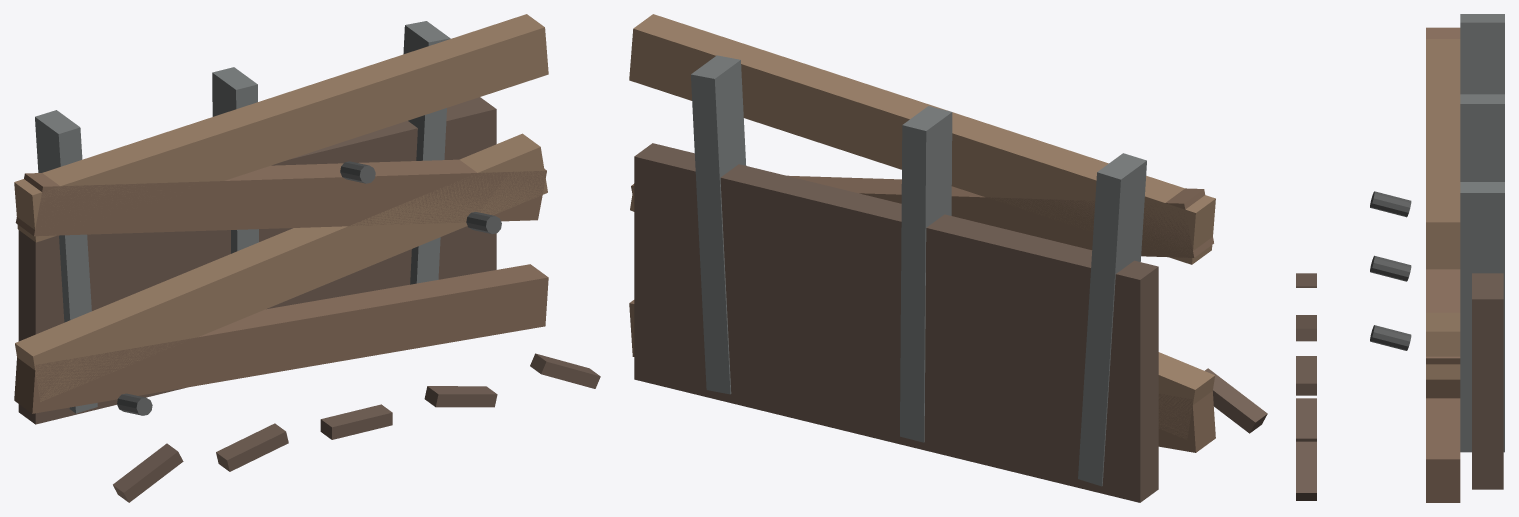
Rendered from Makeshift_Barricade.glb.
3 views of the same model, side by side, from view 1: azimuth 30°, elevation 25°; view 2: azimuth 150°, elevation 25°; view 3: azimuth 270°, elevation 25° (orthographic). The views are drawn at different scales.
Visible parts, largest first — view 1: Makeshift_Barricade_piece_002, Makeshift_Barricade_piece_001, Makeshift_Barricade_piece_004, Makeshift_Barricade_piece_003, Makeshift_Barricade_piece_000, Makeshift_Barricade_piece_005, Makeshift_Barricade_piece_007, Makeshift_Barricade_piece_006, Makeshift_Barricade_piece_011, Makeshift_Barricade_piece_012, Makeshift_Barricade_piece_013, Makeshift_Barricade_piece_014 (+1 smaller); view 2: Makeshift_Barricade_piece_000, Makeshift_Barricade_piece_004, Makeshift_Barricade_piece_007, Makeshift_Barricade_piece_006, Makeshift_Barricade_piece_005, Makeshift_Barricade_piece_003, Makeshift_Barricade_piece_002, Makeshift_Barricade_piece_001, Makeshift_Barricade_piece_011; view 3: Makeshift_Barricade_piece_004, Makeshift_Barricade_piece_000, Makeshift_Barricade_piece_007, Makeshift_Barricade_piece_006, Makeshift_Barricade_piece_001, Makeshift_Barricade_piece_005, Makeshift_Barricade_piece_003, Makeshift_Barricade_piece_002, Makeshift_Barricade_piece_015, Makeshift_Barricade_piece_014, Makeshift_Barricade_piece_013, Makeshift_Barricade_piece_008 (+4 smaller).
Part boxes in pixels (box(x1,y1,x2,y2)): Makeshift_Barricade_piece_002: box(15, 133, 547, 401); Makeshift_Barricade_piece_001: box(14, 264, 548, 413); Makeshift_Barricade_piece_004: box(14, 14, 548, 242); Makeshift_Barricade_piece_003: box(15, 159, 546, 236); Makeshift_Barricade_piece_000: box(18, 97, 496, 424); Makeshift_Barricade_piece_005: box(35, 110, 97, 413); Makeshift_Barricade_piece_007: box(403, 21, 450, 284); Makeshift_Barricade_piece_006: box(212, 67, 258, 253); Makeshift_Barricade_piece_011: box(113, 443, 183, 502); Makeshift_Barricade_piece_012: box(216, 423, 288, 471); Makeshift_Barricade_piece_013: box(320, 404, 392, 439); Makeshift_Barricade_piece_014: box(424, 386, 497, 407); Makeshift_Barricade_piece_000: box(634, 143, 1158, 502); Makeshift_Barricade_piece_004: box(629, 14, 1215, 264); Makeshift_Barricade_piece_007: box(691, 55, 746, 394); Makeshift_Barricade_piece_006: box(900, 106, 952, 442); Makeshift_Barricade_piece_005: box(1078, 153, 1146, 486); Makeshift_Barricade_piece_003: box(631, 175, 1213, 257); Makeshift_Barricade_piece_002: box(630, 183, 1215, 439); Makeshift_Barricade_piece_001: box(629, 300, 1215, 452); Makeshift_Barricade_piece_011: box(1205, 368, 1267, 433); Makeshift_Barricade_piece_004: box(1426, 39, 1460, 269); Makeshift_Barricade_piece_000: box(1472, 273, 1503, 489); Makeshift_Barricade_piece_007: box(1460, 182, 1504, 452); Makeshift_Barricade_piece_006: box(1460, 94, 1504, 181); Makeshift_Barricade_piece_001: box(1426, 398, 1460, 502); Makeshift_Barricade_piece_005: box(1460, 14, 1504, 94); Makeshift_Barricade_piece_003: box(1426, 27, 1460, 398); Makeshift_Barricade_piece_002: box(1426, 312, 1460, 379); Makeshift_Barricade_piece_015: box(1296, 441, 1316, 500); Makeshift_Barricade_piece_014: box(1296, 398, 1316, 441); Makeshift_Barricade_piece_013: box(1296, 356, 1316, 395); Makeshift_Barricade_piece_008: box(1370, 255, 1411, 281).
Bounding box in the file's own units: 2.13 × 1.21 × 0.795.
